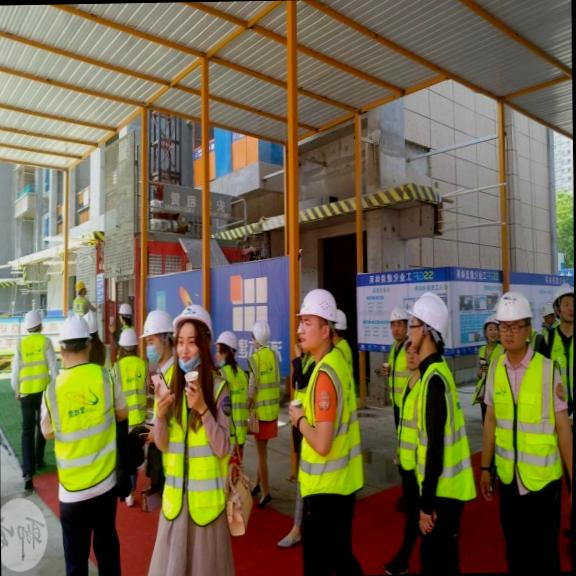safety_vest: (478, 350, 562, 502), (291, 350, 364, 495), (47, 357, 115, 496), (415, 367, 466, 500)
